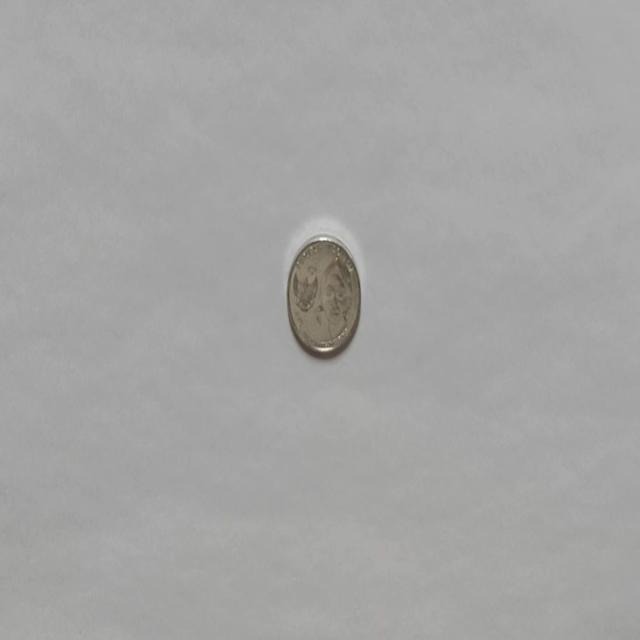dua ratus rupiah: (286, 232, 360, 358)
